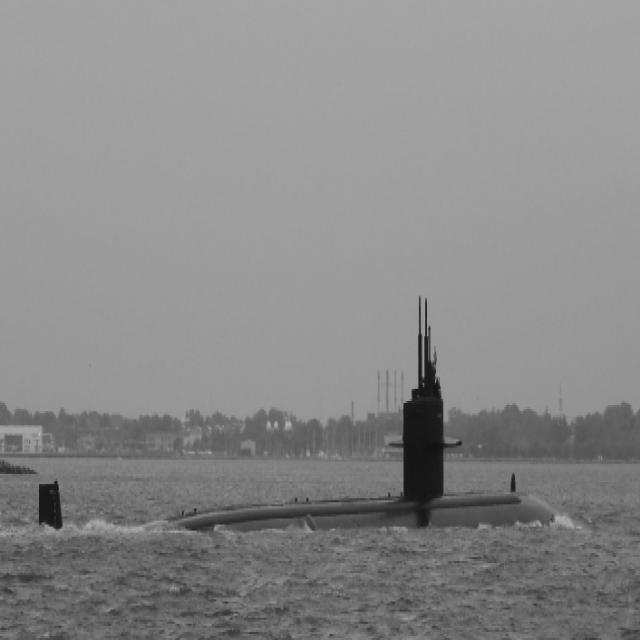submarine: (40, 297, 556, 536)
